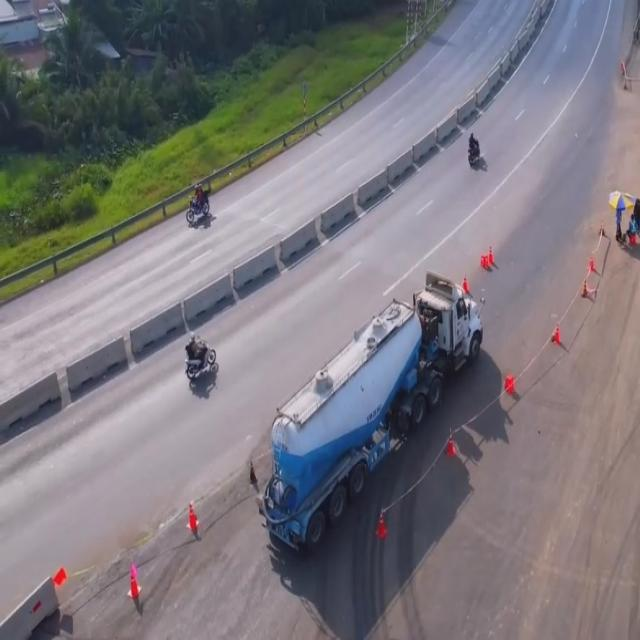motorbike: (185, 333, 217, 382), (186, 178, 213, 228), (466, 126, 482, 166)
truck: (254, 270, 484, 549)
